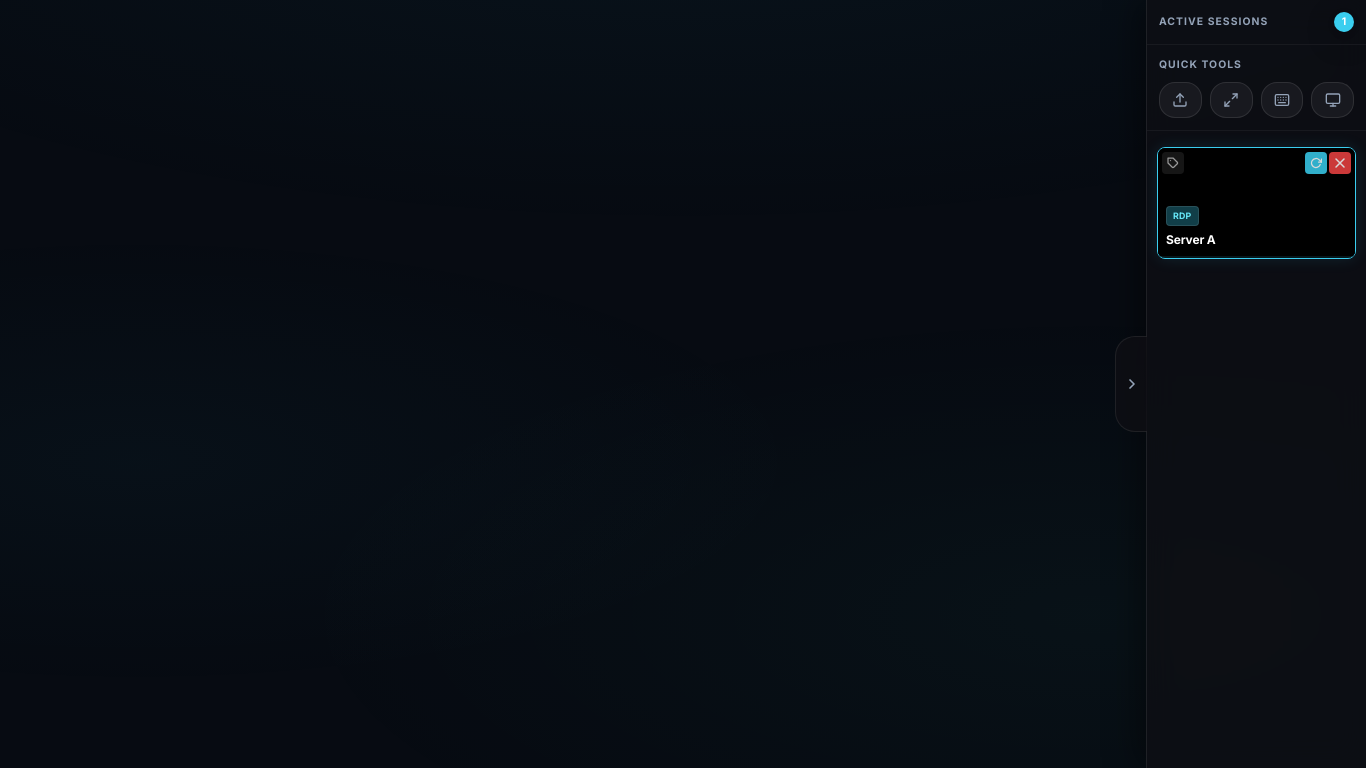
SessionBar › opens tag picker dropdown when tag button clicked
This screenshot has width=1366, height=768.
What coordinates should you click on to do the following:
click the button titled "Set display tag"
I would click on:
 (1173, 163)
Its box is [1162, 152, 1184, 174].
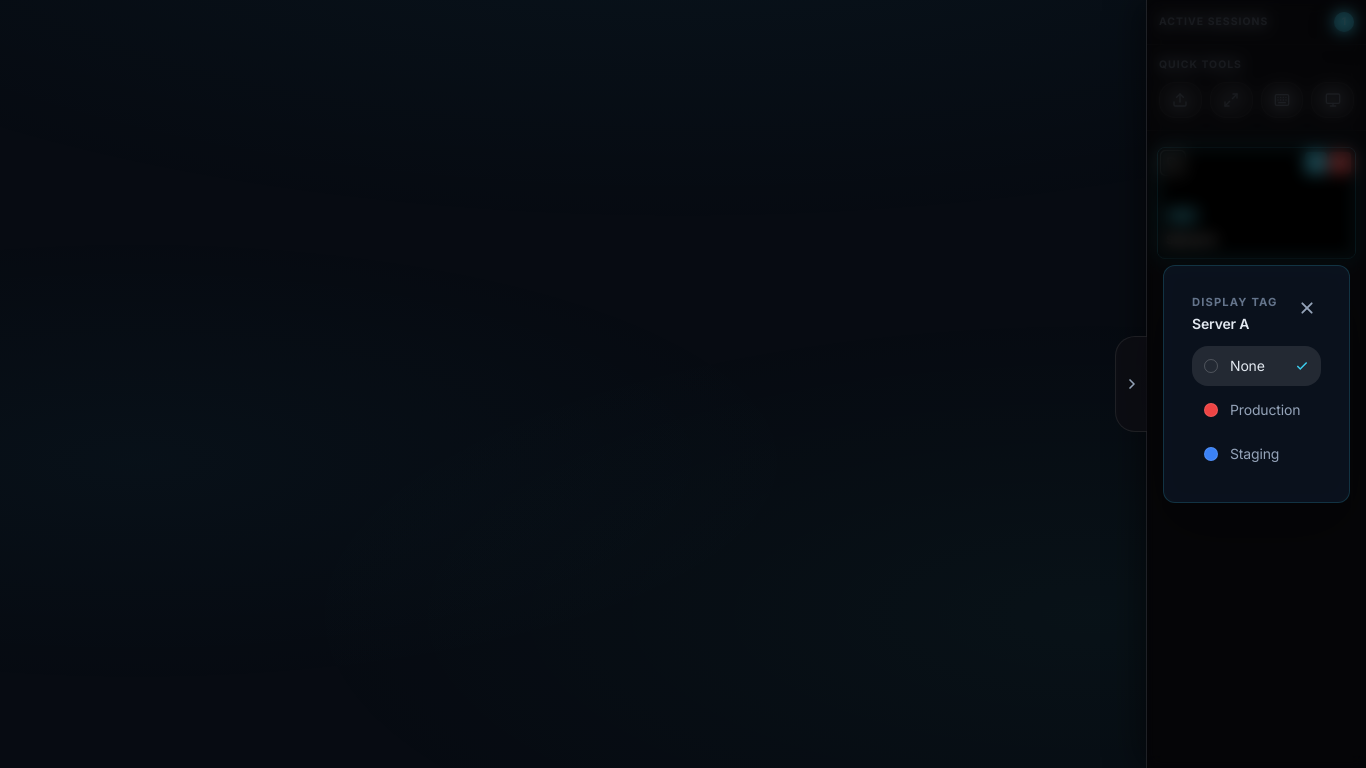
Result: the text "Display Tag" is shown at [1192, 294, 1278, 312]
Result: the text "None" is shown at [1230, 357, 1265, 374]
Result: the text "Production" is shown at [1230, 400, 1309, 420]
